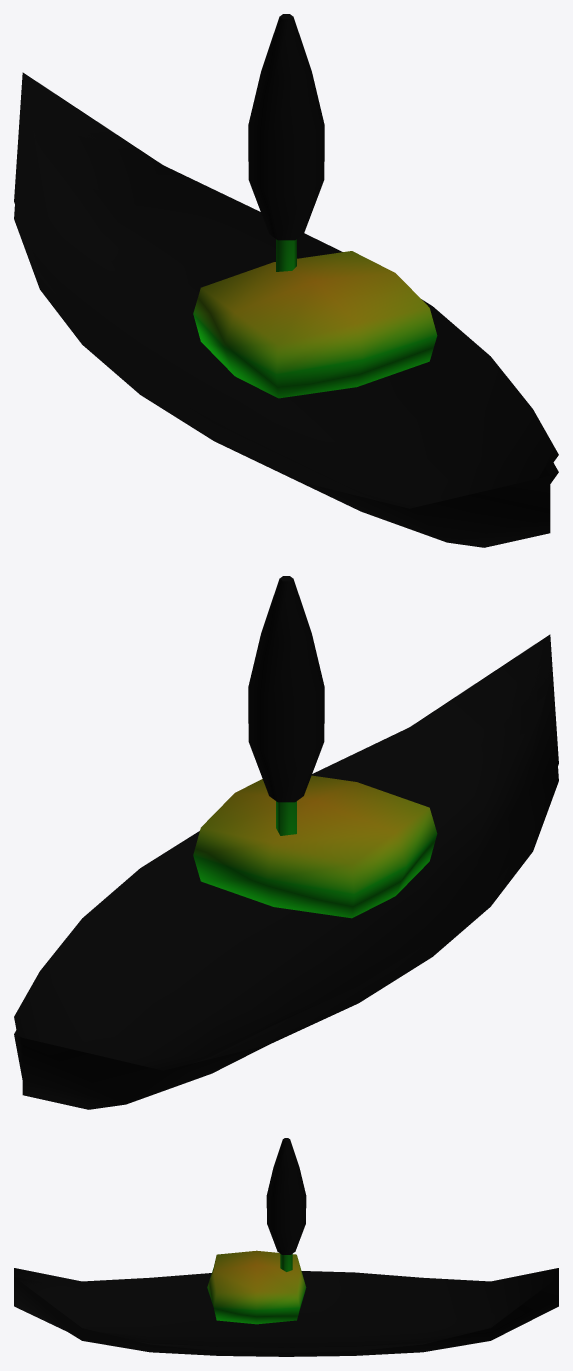
File: leaf_boat_lit.glb
3 views of the same model, one above another, from view 1: azimuth 30°, elevation 25°; view 2: azimuth 150°, elevation 25°; view 3: azimuth 270°, elevation 25° (orthographic). The views are drawn at different scales.
Visible parts, largest first — view 1: leaf_boat_lit; view 2: leaf_boat_lit; view 3: leaf_boat_lit.
Part boxes in pixels (x1,y1,x2,y2): leaf_boat_lit: (14, 14, 558, 547); leaf_boat_lit: (14, 576, 558, 1109); leaf_boat_lit: (14, 1138, 558, 1356).
Size of what is drawn, in the model's own units: 0.0704 by 0.092 by 0.22.
